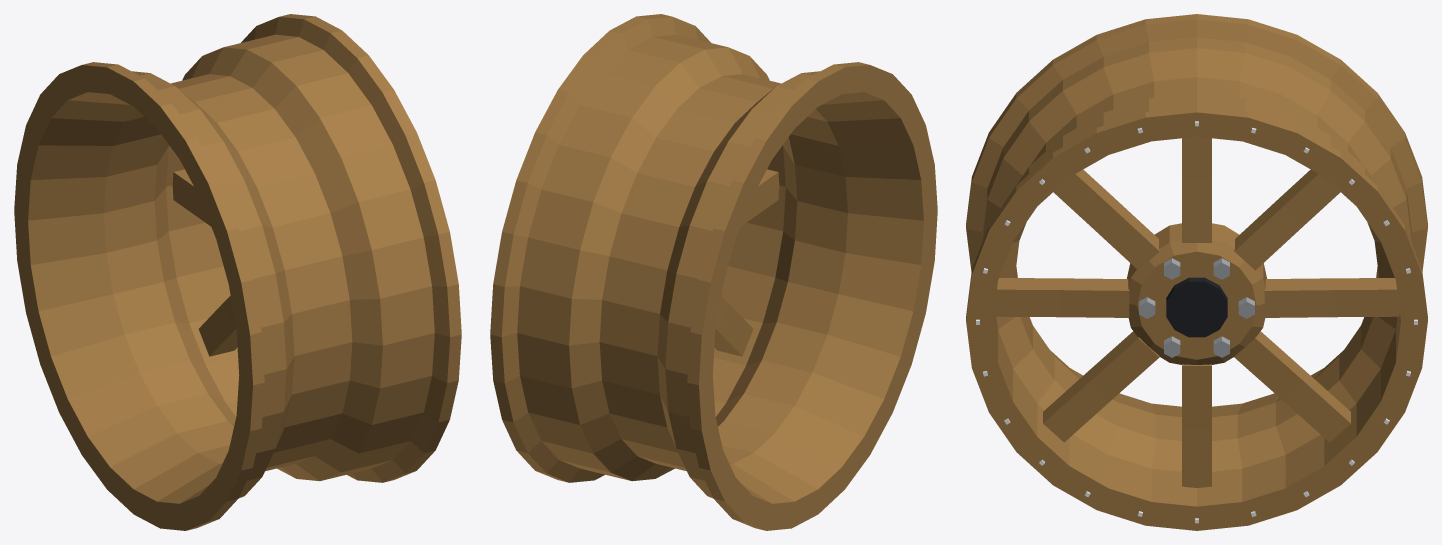
The model's file is rim_offroad8_17.glb.
3 views of the same model, side by side, from view 1: azimuth 30°, elevation 25°; view 2: azimuth 150°, elevation 25°; view 3: azimuth 270°, elevation 25° (orthographic). The views are drawn at different scales.
Visible parts, largest first — view 1: model; view 2: model; view 3: model.
Boxes of the visible parts, x1=… form: model: x1=14, y1=14, x2=461, y2=530; model: x1=490, y1=14, x2=937, y2=530; model: x1=966, y1=14, x2=1427, y2=530.
Size of the model in its own units: 0.2369 by 0.4638 by 0.4638.
4 materials, 1 textured.
